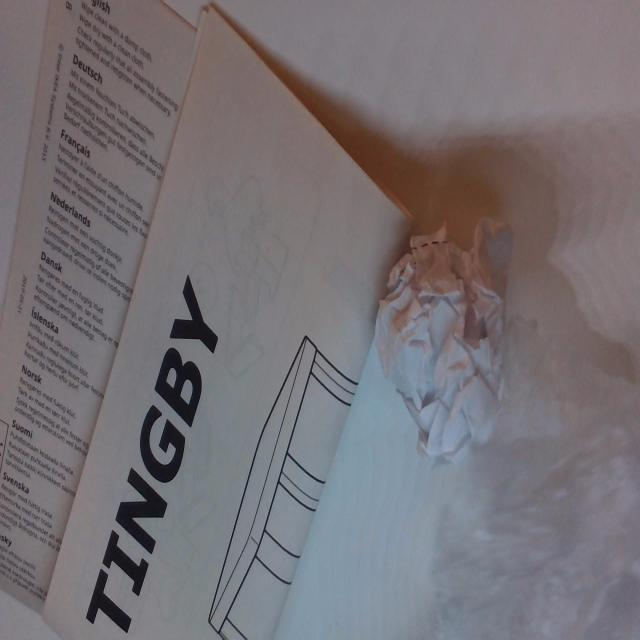Paper: (1, 0, 411, 640), (380, 216, 518, 464)
